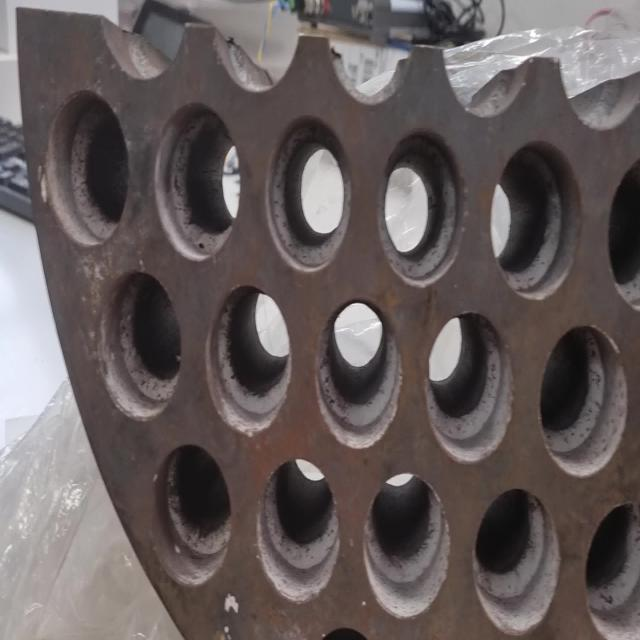Hole: (490, 140, 582, 301), (40, 88, 129, 247), (264, 113, 352, 273), (153, 103, 241, 262), (538, 324, 628, 478), (424, 310, 514, 464), (377, 128, 463, 288), (314, 298, 402, 450), (205, 284, 292, 436), (362, 472, 450, 620), (472, 488, 560, 636), (98, 268, 182, 421), (256, 458, 340, 604), (151, 443, 232, 587), (584, 501, 640, 639), (606, 155, 640, 313)
